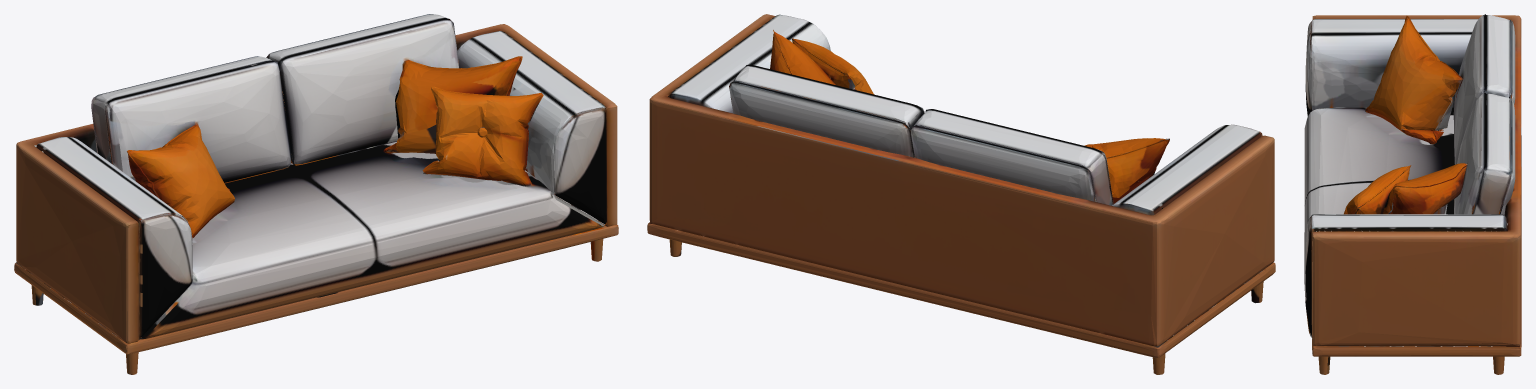
Rendered from edited_mesh.glb.
The picture shows the model from 3 angles, left to right: view 1: azimuth 30°, elevation 25°; view 2: azimuth 150°, elevation 25°; view 3: azimuth 270°, elevation 25°; orthographic projection. The views are drawn at different scales.
Parts seen in each view (by area): view 1: solid_001_wire; view 2: solid_001_wire; view 3: solid_001_wire.
Boxes of the visible parts, x1,y1,x2,y2 form: solid_001_wire: (14,14,618,374); solid_001_wire: (647,14,1275,374); solid_001_wire: (1304,14,1521,374).
Bounding box in the file's own units: 2 × 0.7464 × 0.8192.
Materials: 1 (1 with a texture image).
